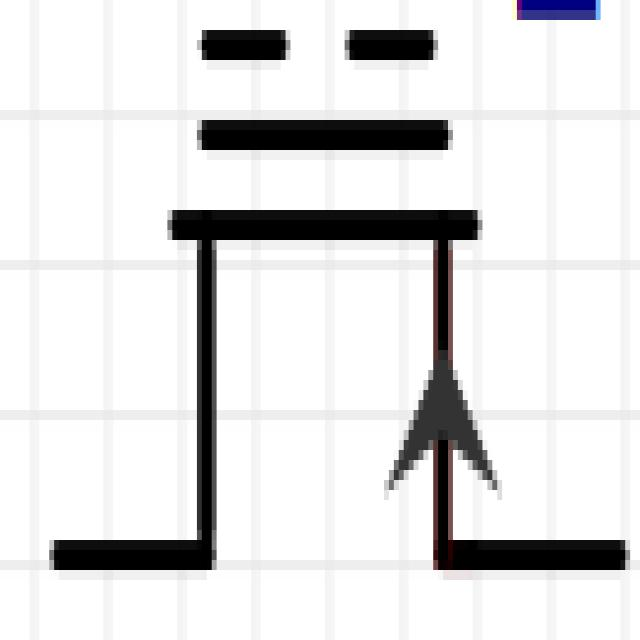pmos: (49, 10, 635, 640)
